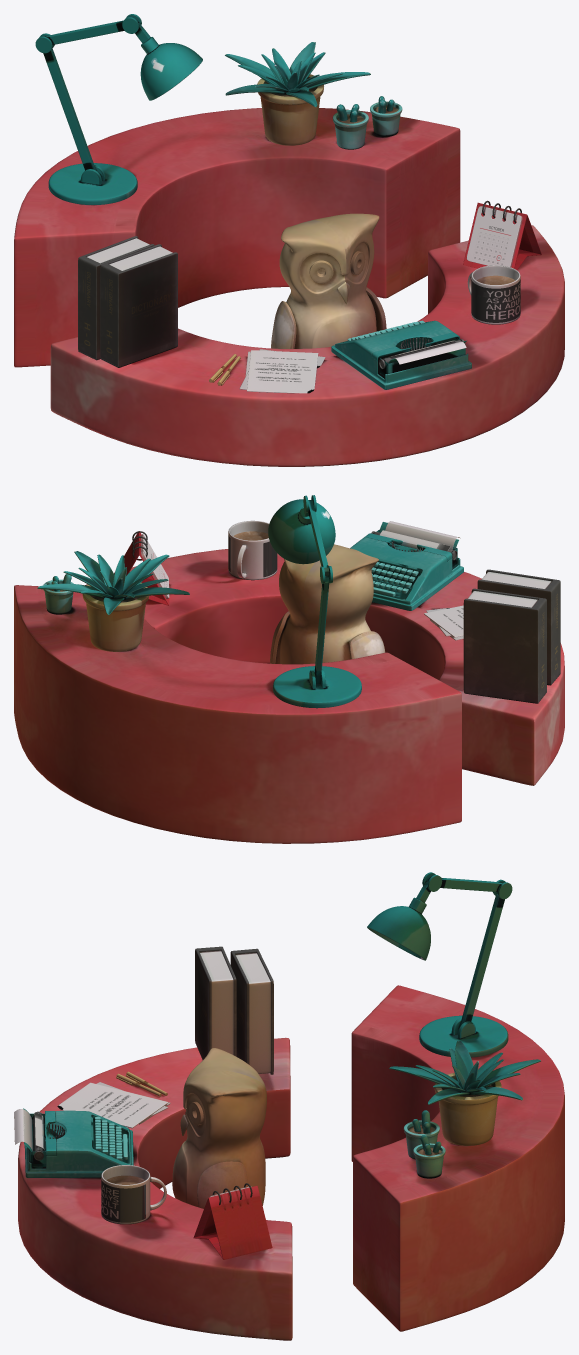
File: owl_lisa.glb
3 renders of one model, top to bottom at view 1: azimuth 30°, elevation 25°; view 2: azimuth 150°, elevation 25°; view 3: azimuth 270°, elevation 25°, orthographic.
Parts seen in each view (by area): view 1: desk, owl, book.1 (×2), lamp, typewriter, cactus, calendar, paper_top, mug, cactus_small, cactus_small.1; view 2: desk, book.1 (×2), owl, lamp, typewriter, cactus, mug, calendar, cactus_small.1, paper_top; view 3: desk, owl, book.1 (×2), lamp, typewriter, cactus, calendar, mug, paper_top, cactus_small.1, cactus_small.
Part boxes in pixels (bbox=[...]): desk: bbox=[14, 108, 564, 466]; owl: bbox=[271, 213, 386, 348]; book.1 (×2): bbox=[78, 236, 177, 367]; lamp: bbox=[35, 14, 202, 204]; typewriter: bbox=[331, 320, 471, 389]; cactus: bbox=[225, 42, 370, 145]; calendar: bbox=[463, 200, 541, 269]; paper_top: bbox=[247, 350, 318, 393]; mug: bbox=[467, 265, 520, 324]; cactus_small: bbox=[332, 104, 368, 149]; cactus_small.1: bbox=[370, 96, 402, 136]; desk: bbox=[14, 549, 564, 843]; book.1 (×2): bbox=[463, 569, 560, 703]; owl: bbox=[270, 544, 385, 664]; lamp: bbox=[268, 495, 361, 708]; typewriter: bbox=[350, 521, 463, 610]; cactus: bbox=[37, 551, 189, 651]; mug: bbox=[228, 520, 277, 580]; calendar: bbox=[114, 531, 169, 605]; cactus_small.1: bbox=[43, 574, 73, 614]; paper_top: bbox=[424, 605, 463, 637]; desk: bbox=[18, 985, 564, 1340]; owl: bbox=[172, 1048, 266, 1208]; book.1 (×2): bbox=[195, 946, 273, 1074]; lamp: bbox=[367, 872, 512, 1057]; typewriter: bbox=[14, 1108, 133, 1177]; cactus: bbox=[389, 1041, 540, 1145]; calendar: bbox=[193, 1183, 272, 1259]; mug: bbox=[101, 1165, 166, 1224]; paper_top: bbox=[57, 1082, 168, 1128]; cactus_small.1: bbox=[413, 1135, 445, 1178]; cactus_small: bbox=[403, 1110, 439, 1159].
Size of the model in its own units: 308 by 186 by 303.
Materials: 15 (15 with a texture image).
